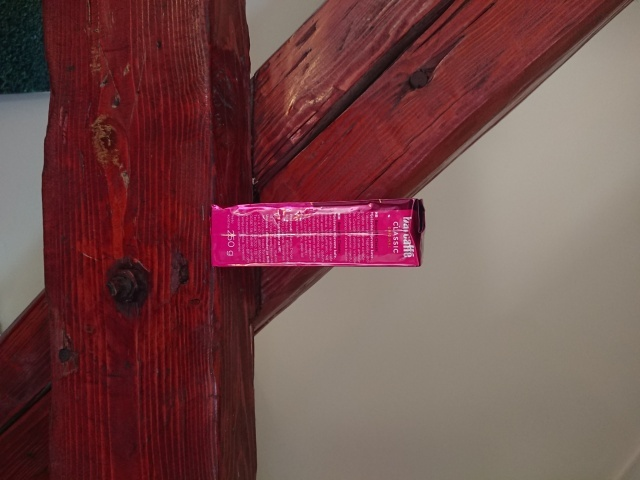Barcaffe Classic Original 225g: (208, 196, 427, 270)
